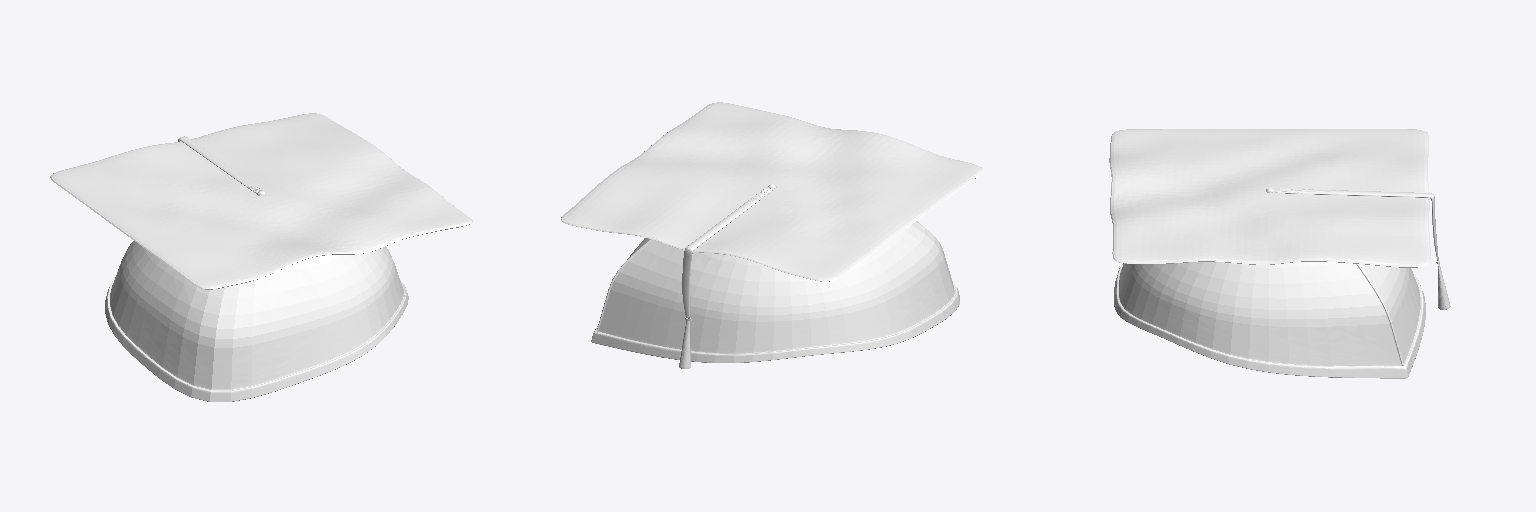
Rendered from graduation.obj.
3 views of the same model, side by side, from view 1: azimuth 30°, elevation 25°; view 2: azimuth 150°, elevation 25°; view 3: azimuth 270°, elevation 25° (orthographic).
Parts seen in each view (by area): view 1: Tube.1; view 2: Tube.1; view 3: Tube.1.
Boxes of the visible parts, <box> form: Tube.1: <box>50,113,472,401</box>; Tube.1: <box>561,102,982,368</box>; Tube.1: <box>1109,129,1450,378</box>.
Bounding box in the file's own units: 200 × 93.89 × 213.